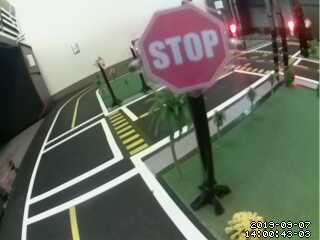Stop_Sign: (128, 5, 231, 91)
